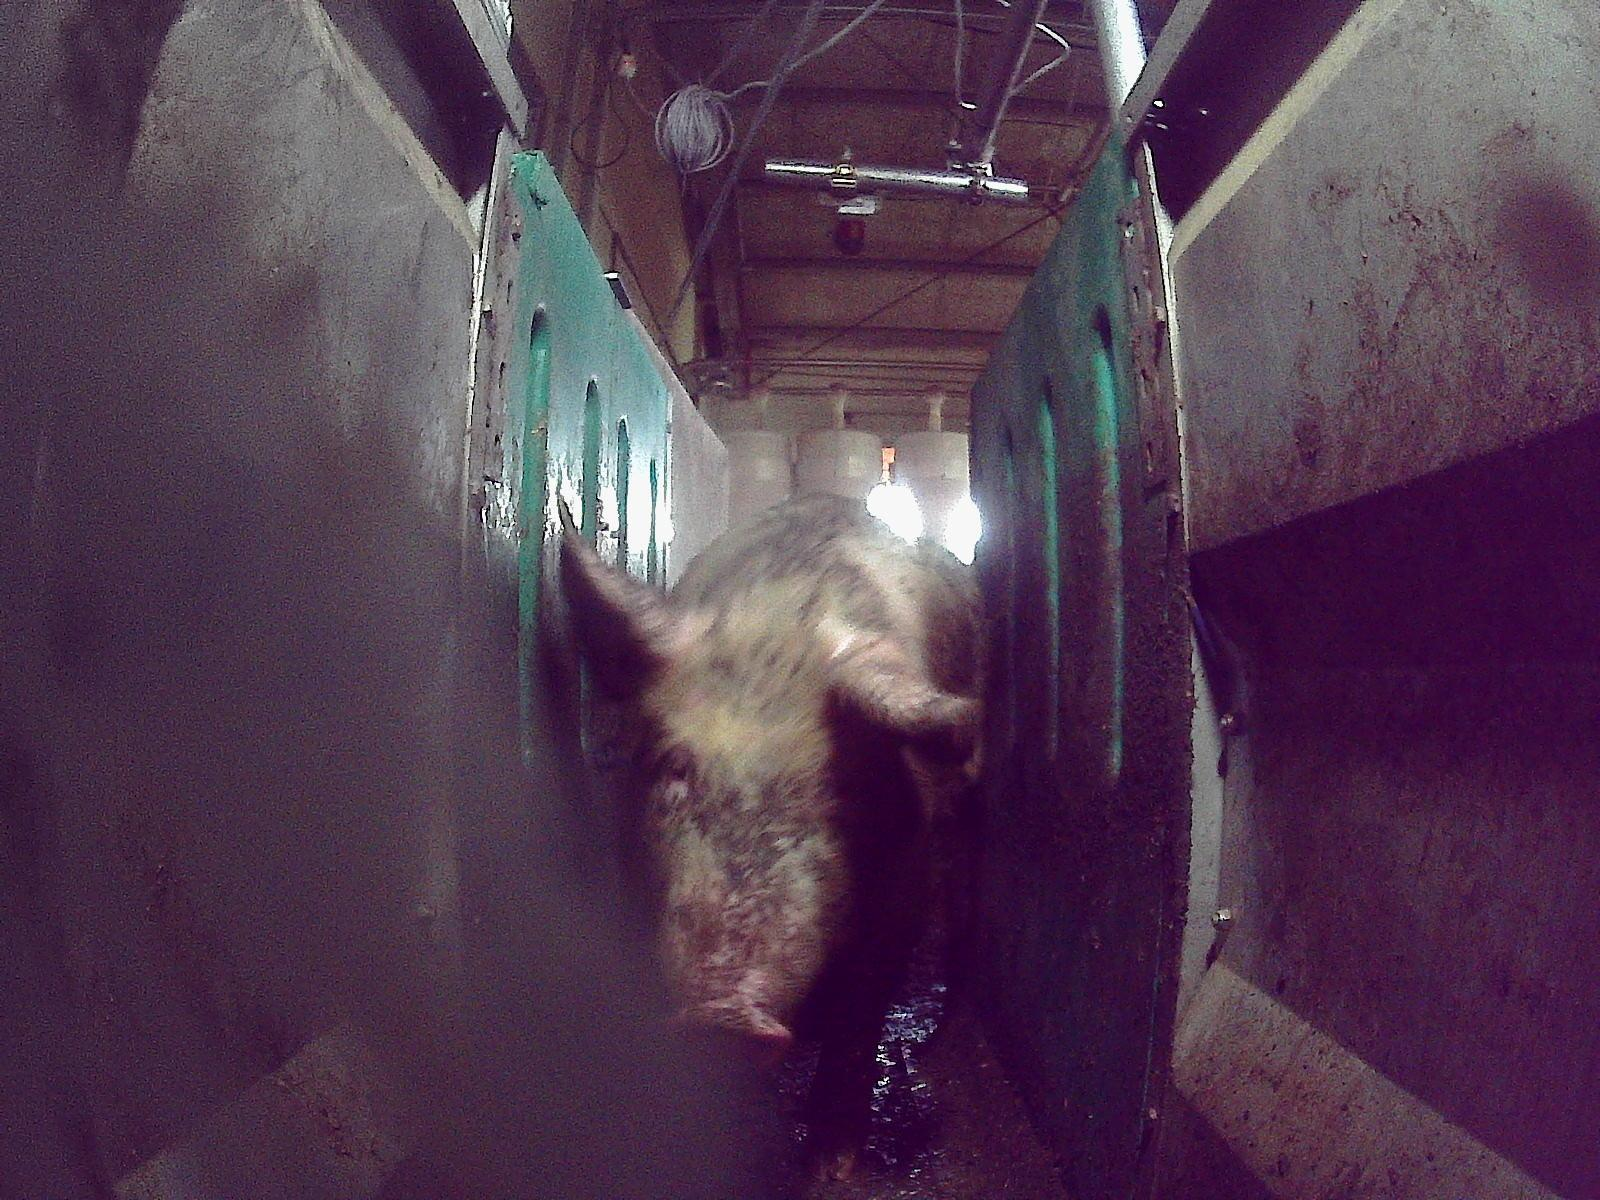Face: (642, 651, 870, 1062)
